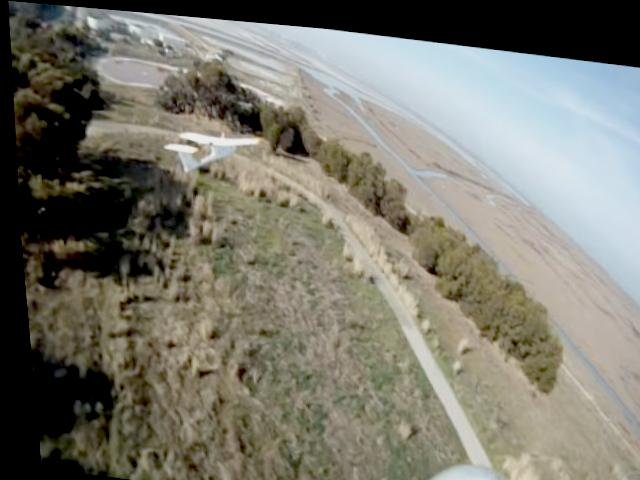uav: (153, 114, 265, 182)
